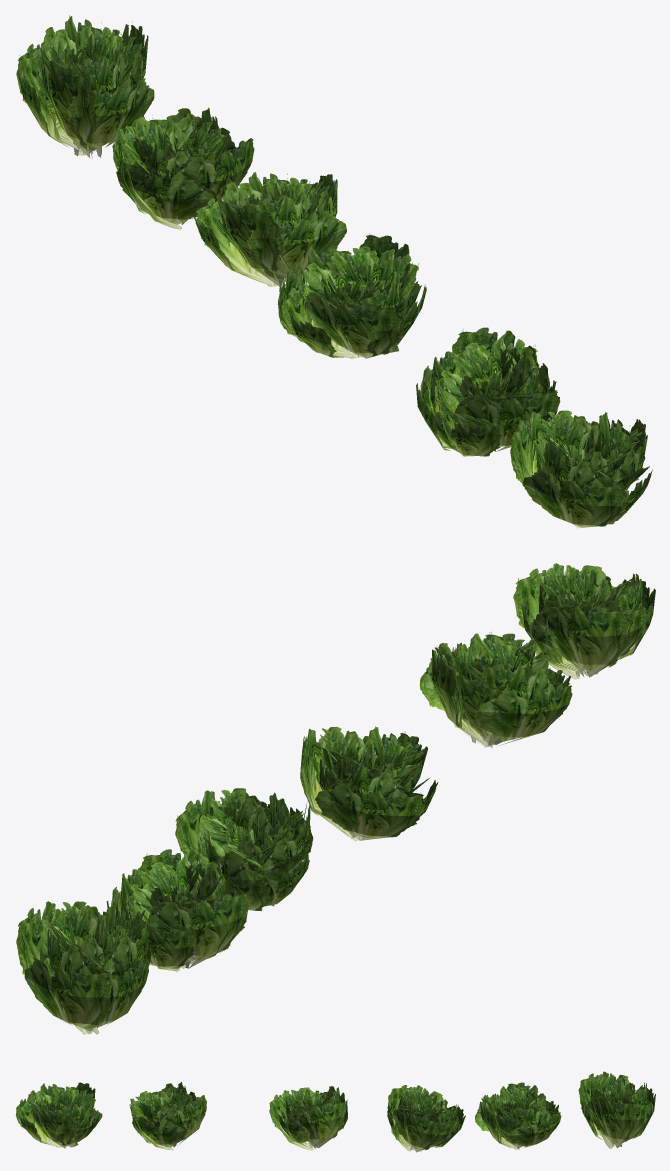
The model's file is lettuce_row.fbx.
The picture shows the model from 3 angles, top to bottom: view 1: azimuth 30°, elevation 25°; view 2: azimuth 150°, elevation 25°; view 3: azimuth 270°, elevation 25°; orthographic projection. The views are drawn at different scales.
Parts seen in each view (by area): view 1: LettuceRow; view 2: LettuceRow; view 3: LettuceRow.
Part boxes in pixels (x1,y1,x2,y2): LettuceRow: [16, 15, 652, 528]; LettuceRow: [16, 563, 655, 1034]; LettuceRow: [15, 1071, 655, 1152].
Bounding box in the file's own units: 33.81 × 26.03 × 221.
Materials: 1 (1 with a texture image).
